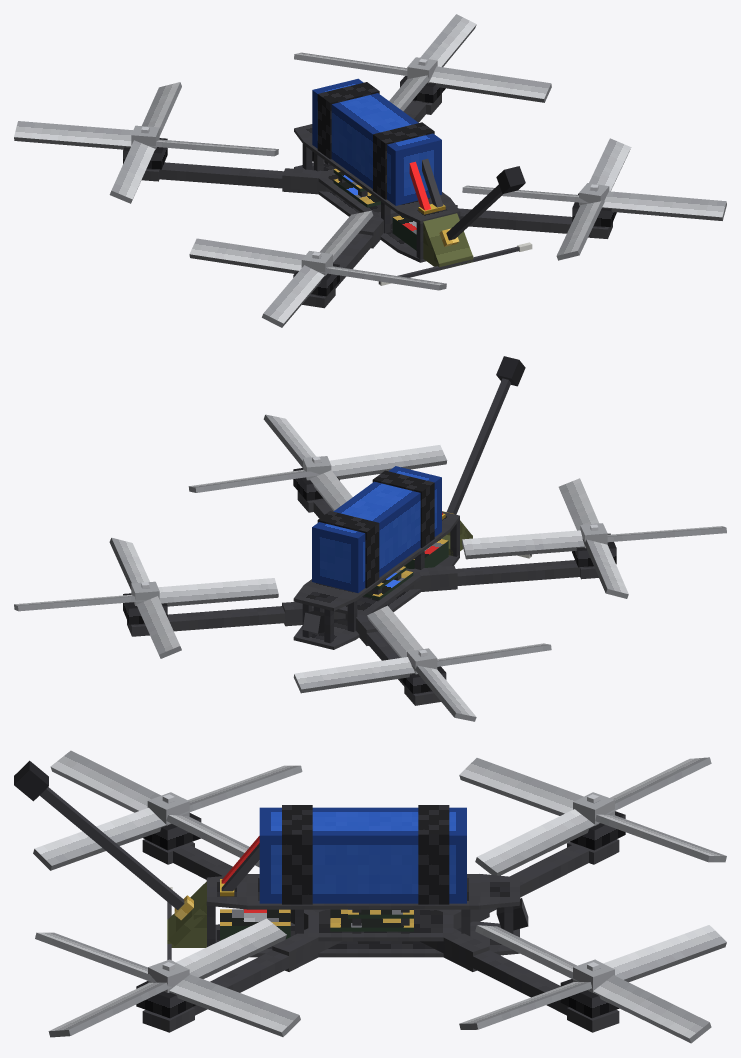
Rendered from fpv.glb.
3 renders of one model, top to bottom at view 1: azimuth 30°, elevation 25°; view 2: azimuth 150°, elevation 25°; view 3: azimuth 270°, elevation 25°, orthographic. The views are drawn at different scales.
Visible parts, largest first — view 1: airframe, prop4, prop1, prop3, prop2; view 2: airframe, prop1, prop2, prop4, prop3; view 3: airframe, prop1, prop3, prop2, prop4.
Boxes of the visible parts, box(x1,y1,x2,y2) form: airframe: box(123, 58, 616, 308); prop4: box(189, 210, 446, 327); prop1: box(14, 82, 278, 203); prop3: box(462, 138, 726, 260); prop2: box(294, 14, 551, 111); airframe: box(123, 356, 616, 705); prop1: box(293, 605, 551, 721); prop2: box(14, 537, 278, 658); prop4: box(462, 478, 726, 598); prop3: box(188, 414, 447, 510); airframe: box(14, 760, 625, 1032); prop1: box(459, 757, 726, 875); prop3: box(35, 918, 300, 1037); prop2: box(459, 925, 726, 1043); prop4: box(33, 750, 302, 870).
Bounding box in the file's own units: 0.9419 × 0.2761 × 1.01.
Materials: 1 (1 with a texture image).
